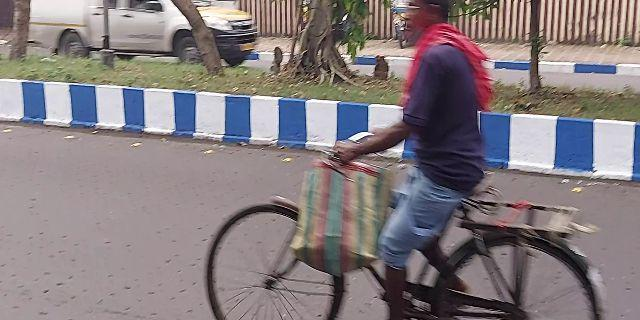Cycle: (193, 1, 608, 319)
